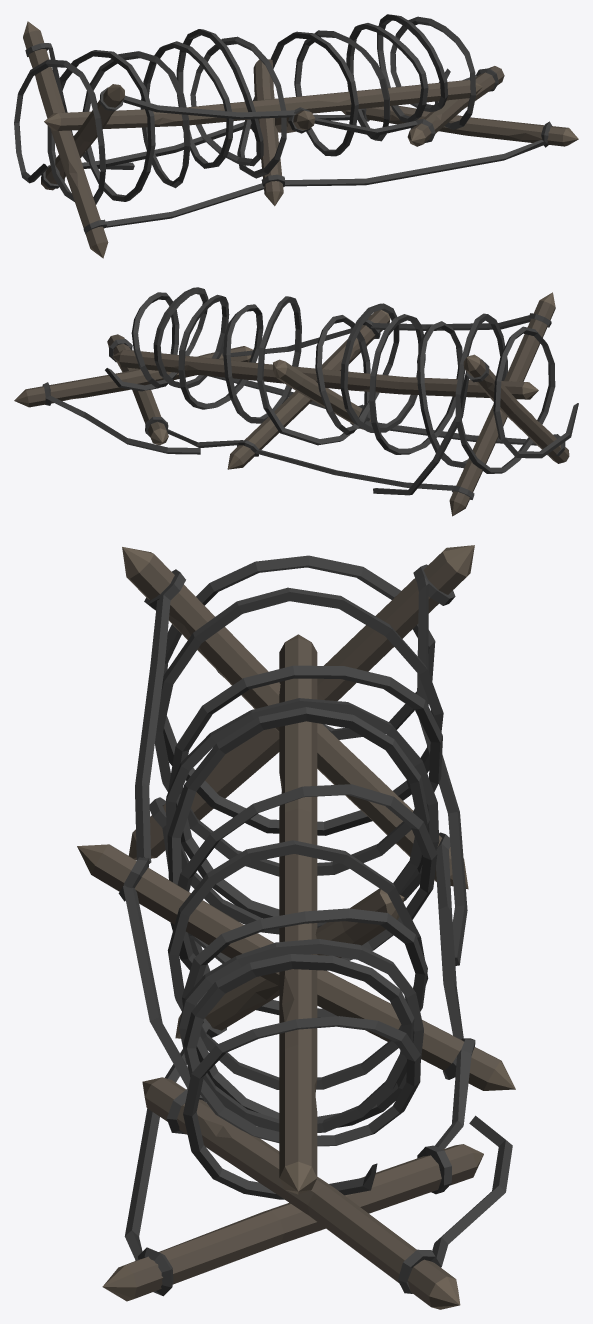
File: Prop_Wire_01_03.fbx
3 renders of one model, top to bottom at view 1: azimuth 30°, elevation 25°; view 2: azimuth 150°, elevation 25°; view 3: azimuth 270°, elevation 25°, orthographic. The views are drawn at different scales.
Visible parts, largest first — view 1: Prop_Wire_01_03_LOD0; view 2: Prop_Wire_01_03_LOD0; view 3: Prop_Wire_01_03_LOD0.
Part boxes in pixels (bbox=[...]): Prop_Wire_01_03_LOD0: bbox=[14, 14, 578, 258]; Prop_Wire_01_03_LOD0: bbox=[14, 287, 578, 516]; Prop_Wire_01_03_LOD0: bbox=[77, 545, 515, 1309].
Size of what is drawn, in the model's own units: 294 by 92.15 by 110.
